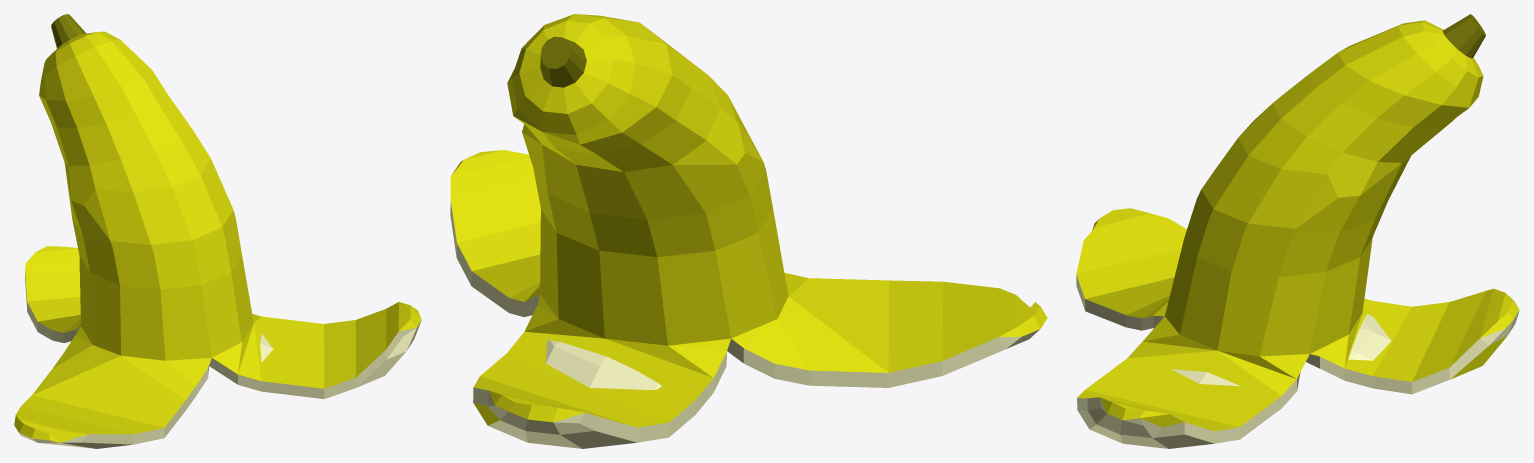
Rendered from banana.fbx.
3 views of the same model, side by side, from view 1: azimuth 30°, elevation 25°; view 2: azimuth 150°, elevation 25°; view 3: azimuth 270°, elevation 25° (orthographic). The views are drawn at different scales.
Parts seen in each view (by area): view 1: Banana; view 2: Banana; view 3: Banana.
Part boxes in pixels (left/top/right/bottom): Banana: left=14, top=14, right=421, bottom=448; Banana: left=450, top=14, right=1047, bottom=448; Banana: left=1076, top=14, right=1519, bottom=448.
Bounding box in the file's own units: 207 × 141 × 170.
